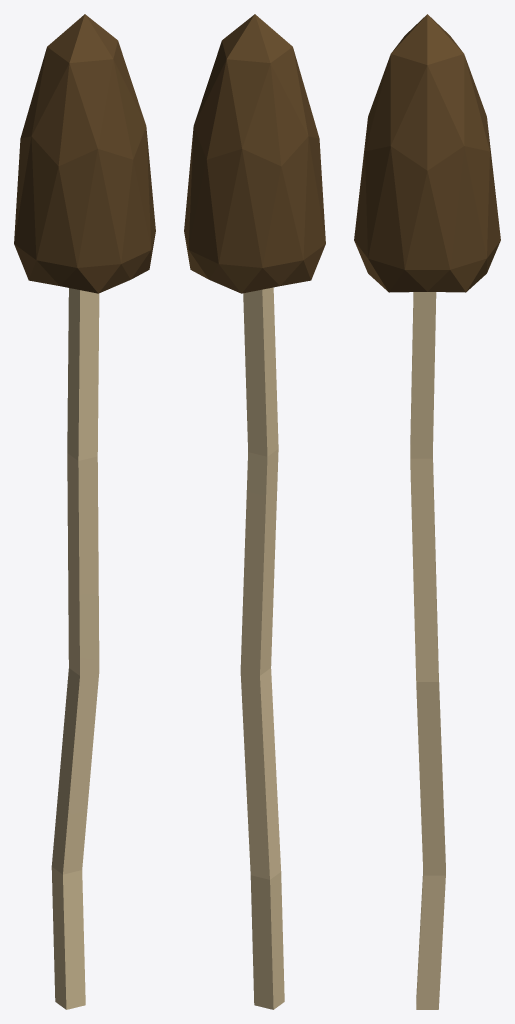
The model's file is Mushroom_04.fbx.
3 renders of one model, left to right at view 1: azimuth 30°, elevation 25°; view 2: azimuth 150°, elevation 25°; view 3: azimuth 270°, elevation 25°, orthographic.
Visible parts, largest first — view 1: Mushroom_04; view 2: Mushroom_04; view 3: Mushroom_04.
Boxes of the visible parts, x1,y1,x2,y2 form: Mushroom_04: (14,14,155,1009); Mushroom_04: (184,14,325,1009); Mushroom_04: (354,14,500,1009).
Bounding box in the file's own units: 1.95 × 15.34 × 2.05.
